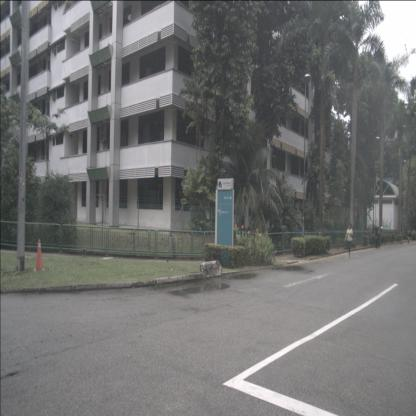human-pedestrian-adult: (344, 223, 353, 259)
movable_object-trafficcone: (34, 239, 44, 273)
vehicle-motorcycle: (374, 226, 382, 248)
